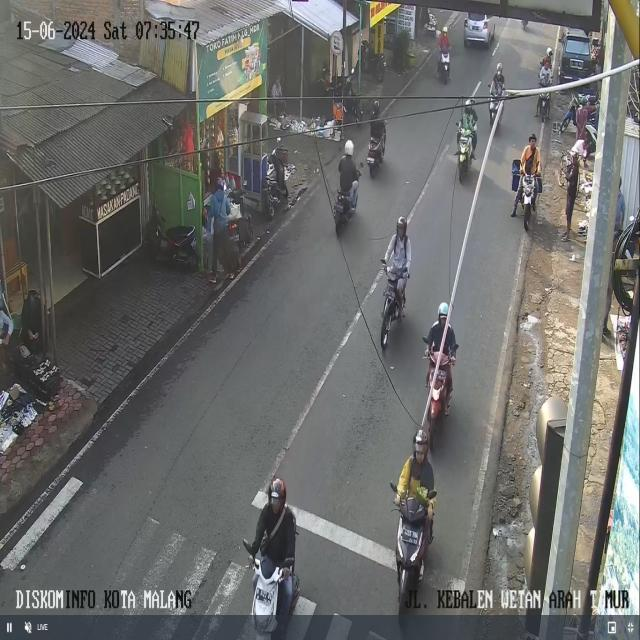Helmet: (268, 478, 285, 501), (414, 429, 428, 454), (414, 429, 427, 444), (396, 216, 407, 232), (438, 302, 448, 317), (344, 140, 353, 155), (372, 100, 379, 116), (588, 95, 597, 105), (465, 98, 474, 106), (579, 96, 587, 105), (496, 63, 503, 73), (528, 133, 536, 141), (546, 47, 552, 55), (442, 26, 447, 33)
Number Plate: (401, 527, 417, 544), (256, 588, 271, 604), (438, 371, 446, 380)
Rearview Mirror: (427, 490, 436, 498), (389, 482, 396, 492)
